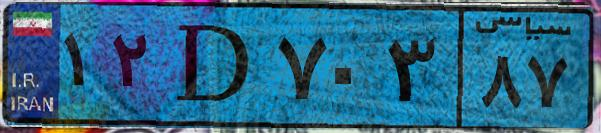0: (330, 28, 385, 110)
1: (57, 26, 110, 100)
2: (110, 28, 158, 98)
3: (385, 28, 445, 110)
7: (270, 28, 330, 110), (525, 38, 570, 115)
8: (475, 38, 525, 113)
D: (158, 12, 270, 120)
